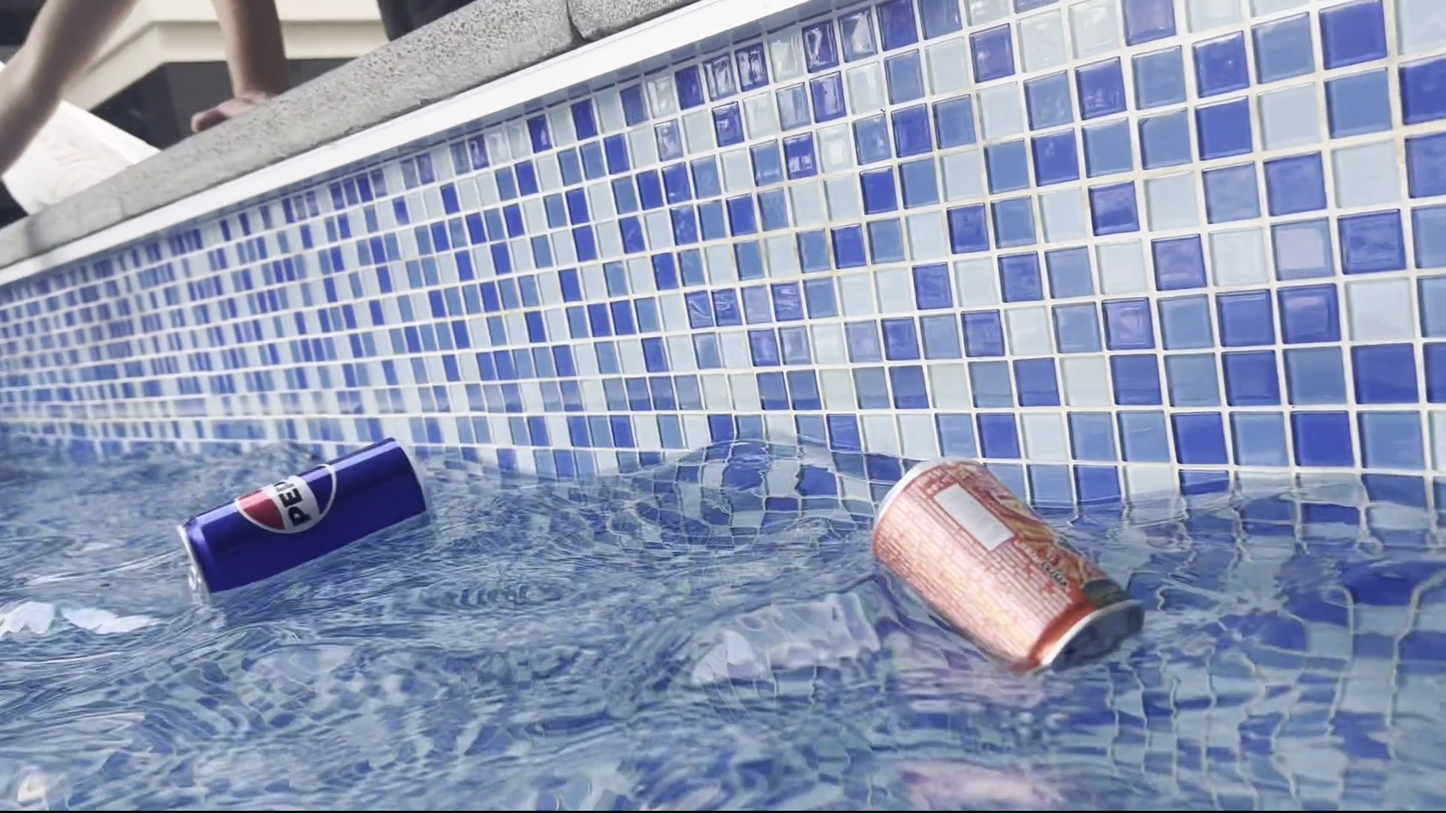debris: (855, 445, 1153, 688), (172, 430, 432, 595)
